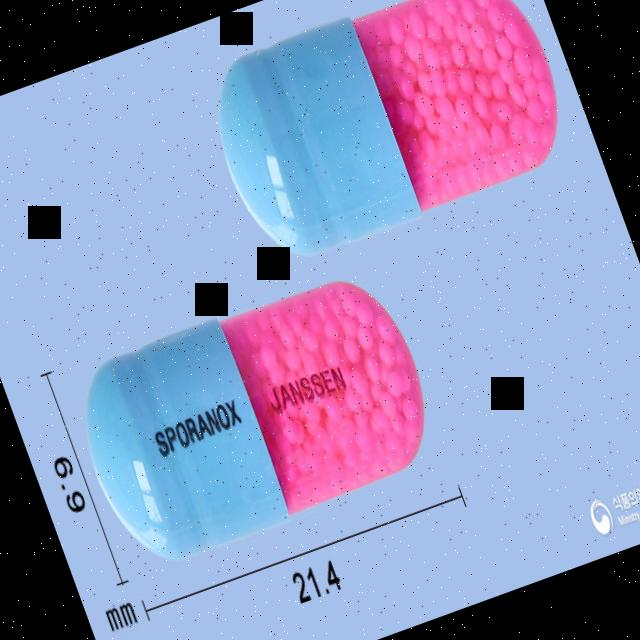Sporanox Cap: (61, 260, 450, 570)
